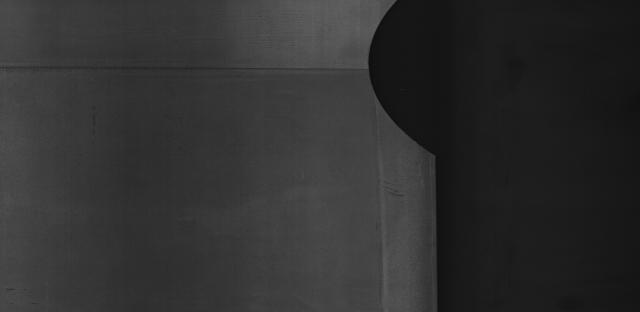crescent_gap: (362, 0, 460, 174)
welding_line: (1, 54, 384, 84)
